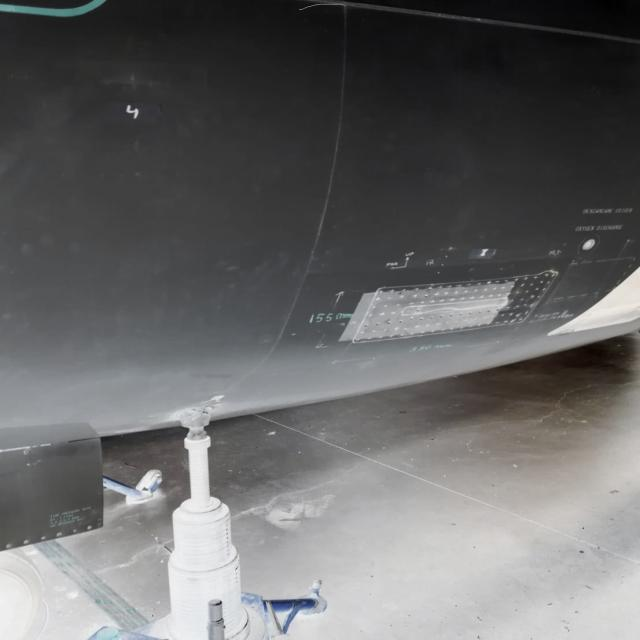crack: (294, 3, 349, 15)
